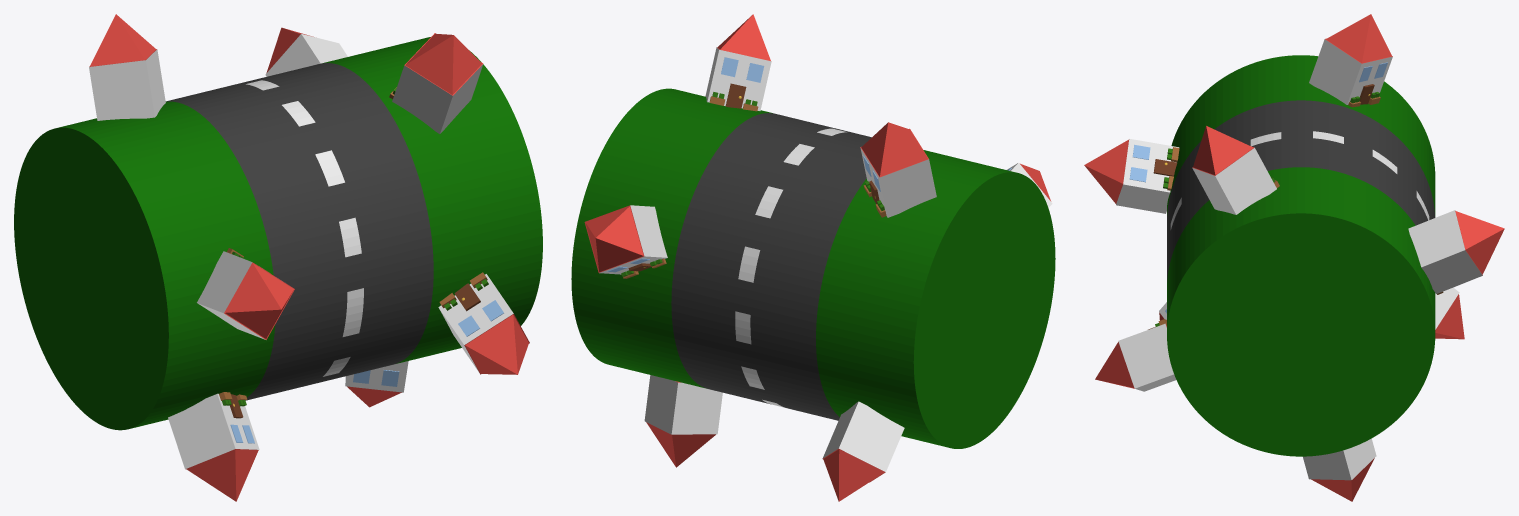
File: Day.fbx
3 renders of one model, left to right at view 1: azimuth 30°, elevation 25°; view 2: azimuth 150°, elevation 25°; view 3: azimuth 270°, elevation 25°, orthographic. The views are drawn at different scales.
Parts seen in each view (by area): view 1: Cylinder, House.007, House.002, House, House.001, House.003, House.004, House.006; view 2: Cylinder, House.002, House.005, House.006, House.004, House; view 3: Cylinder, House.004, House.002, House.003, House, House.001, House.006, House.005.
Part boxes in pixels (<box>): Cylinder: <box>14,37,542,430</box>; House.007: <box>168,392,259,501</box>; House.002: <box>89,14,165,120</box>; House: <box>389,33,483,133</box>; House.001: <box>438,272,529,374</box>; House.003: <box>197,248,294,339</box>; House.004: <box>265,27,347,76</box>; House.006: <box>345,361,408,407</box>; Cylinder: <box>571,88,1055,448</box>; House.002: <box>860,122,936,217</box>; House.005: <box>822,401,904,501</box>; House.006: <box>644,375,722,467</box>; House.004: <box>584,205,667,278</box>; House: <box>705,14,771,111</box>; Cylinder: <box>1167,55,1435,456</box>; House.004: <box>1408,210,1504,294</box>; House.002: <box>1309,14,1392,107</box>; House.003: <box>1084,138,1179,213</box>; House: <box>1192,126,1279,214</box>; House.001: <box>1095,319,1176,391</box>; House.006: <box>1303,438,1376,501</box>; House.005: <box>1435,287,1464,339</box>.
Size of the model in its own units: 838 by 952 by 942.
